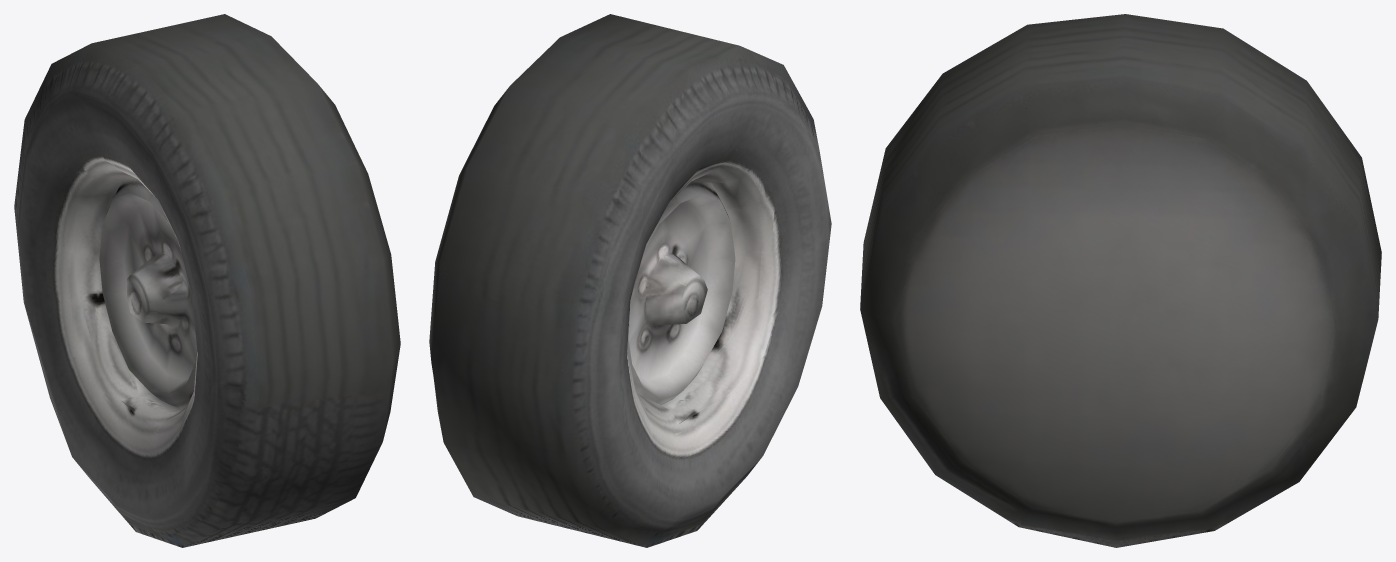
Rendered from wheel.glb.
The picture shows the model from 3 angles, left to right: view 1: azimuth 30°, elevation 25°; view 2: azimuth 150°, elevation 25°; view 3: azimuth 270°, elevation 25°; orthographic projection.
Parts seen in each view (by area): view 1: tripo_part_4; view 2: tripo_part_4; view 3: tripo_part_4.
Boxes of the visible parts, x1,y1,x2,y2 form: tripo_part_4: [14, 14, 400, 547]; tripo_part_4: [429, 14, 831, 547]; tripo_part_4: [860, 14, 1381, 547].
Bounding box in the file's own units: 0.0617 × 0.1453 × 0.1457.
1 material, 1 textured.
